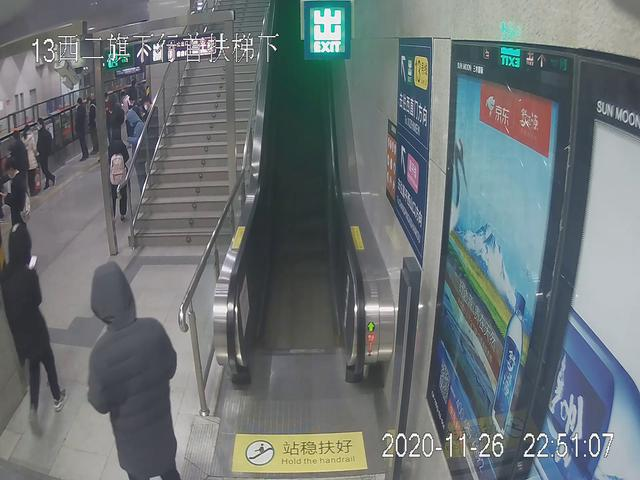person: (78, 260, 185, 480), (3, 223, 67, 435), (120, 109, 143, 196), (107, 129, 127, 223), (37, 120, 55, 194), (74, 98, 89, 165)
